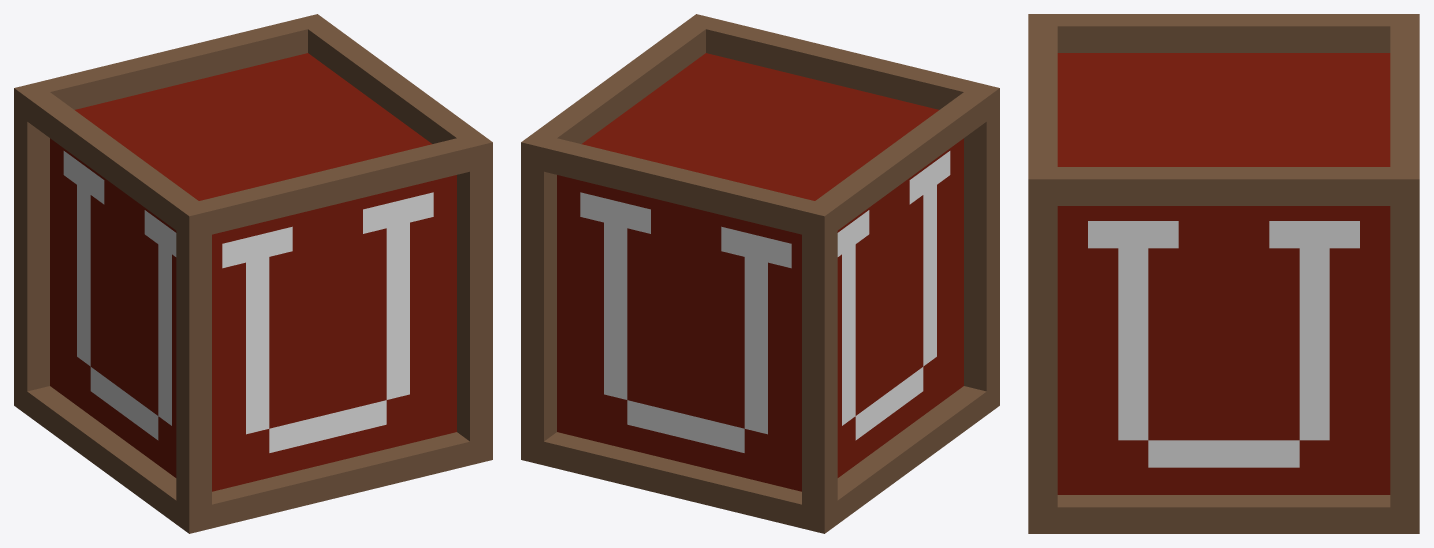
File: Crate U.fbx
3 views of the same model, side by side, from view 1: azimuth 30°, elevation 25°; view 2: azimuth 150°, elevation 25°; view 3: azimuth 270°, elevation 25° (orthographic). The views are drawn at different scales.
Visible parts, largest first — view 1: Crate U; view 2: Crate U; view 3: Crate U.
Part boxes in pixels (box(x1,y1,x2,y2)): Crate U: box(14, 14, 492, 533); Crate U: box(521, 14, 999, 533); Crate U: box(1028, 14, 1419, 533).
Bounding box in the file's own units: 2 × 2 × 2.
